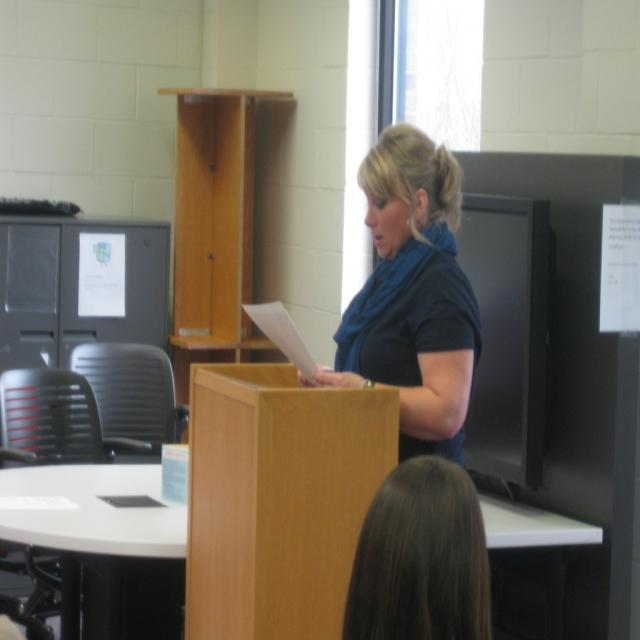chair: (69, 341, 189, 453)
desk: (190, 361, 398, 640)
person: (311, 123, 483, 471), (342, 454, 494, 638)
tv: (58, 220, 172, 354)
